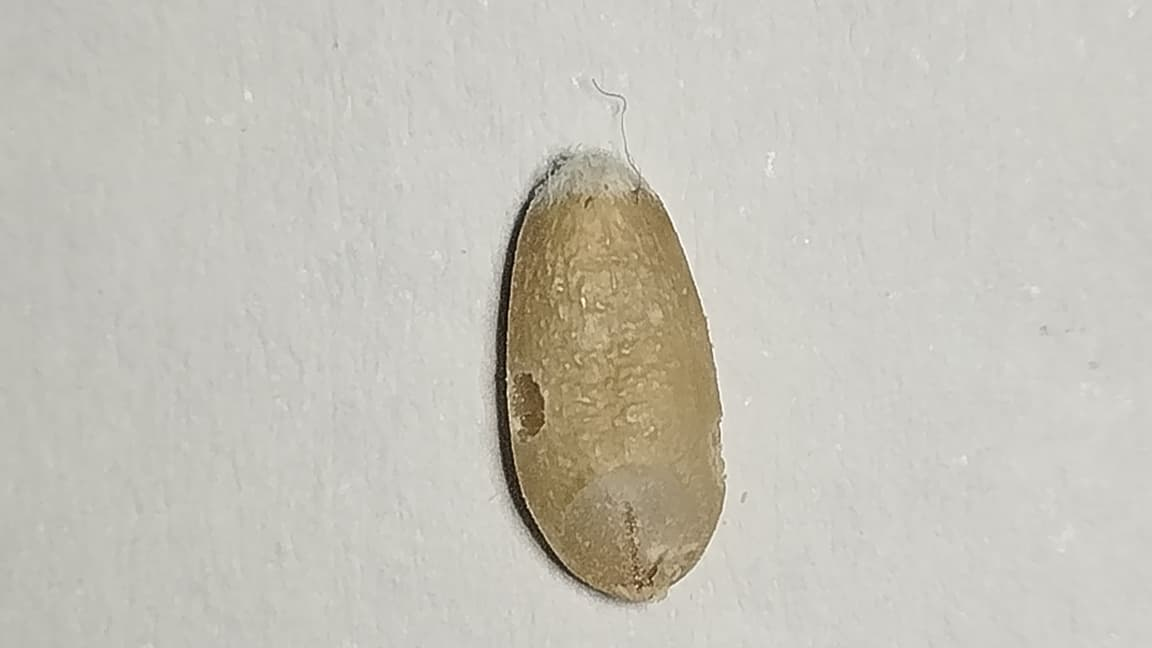damage: (506, 149, 723, 599)
insectdamage: (505, 354, 568, 449), (695, 396, 733, 516)
